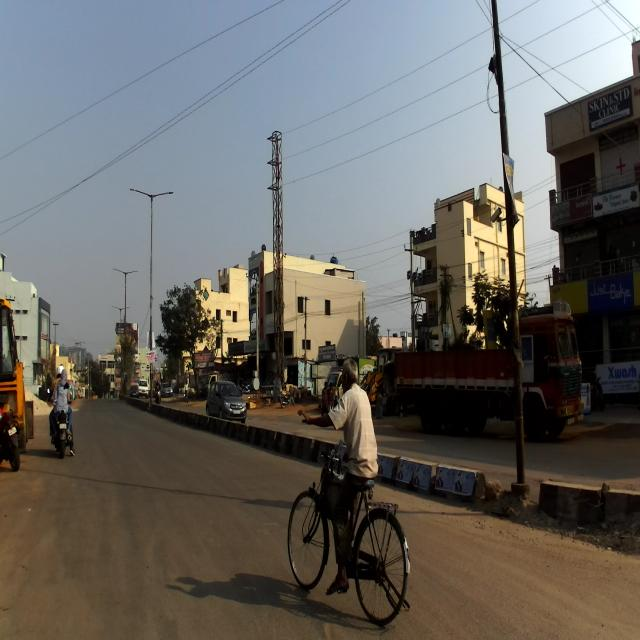bicycle ahead at: (284, 466, 414, 626)
motorcycle ahead at: (47, 404, 80, 457)
